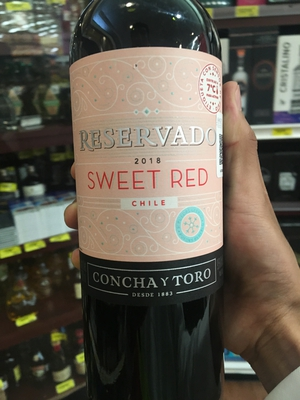reservado sweet red: (63, 12, 235, 385)
